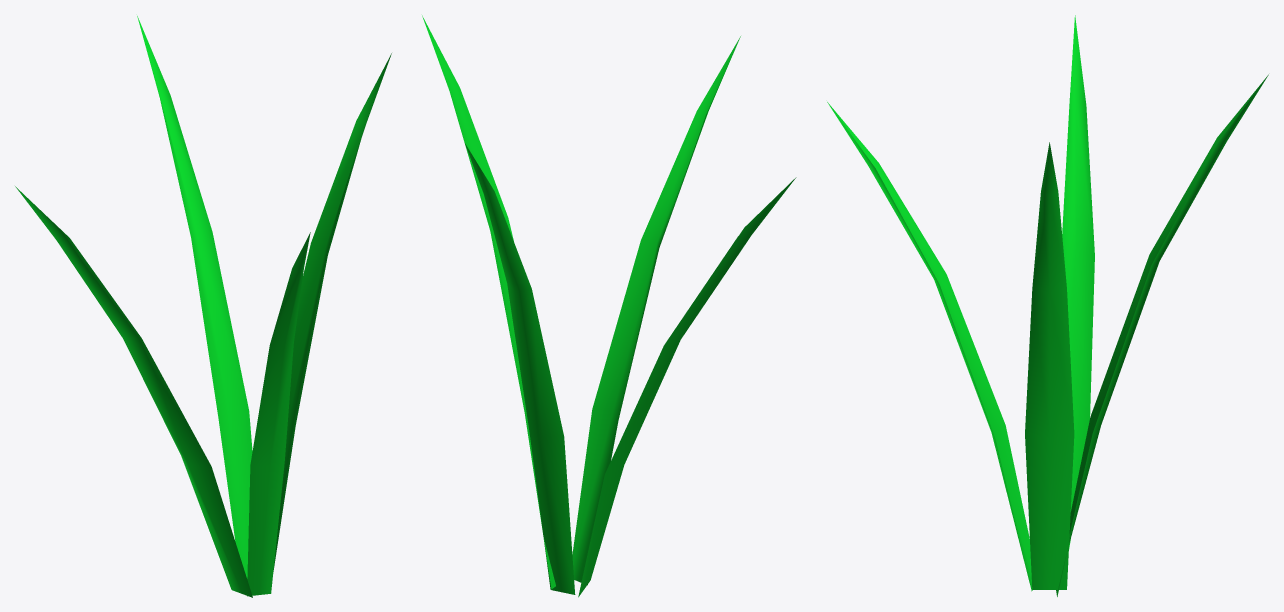
The picture shows the model from 3 angles, left to right: view 1: azimuth 30°, elevation 25°; view 2: azimuth 150°, elevation 25°; view 3: azimuth 270°, elevation 25°; orthographic projection. The views are drawn at different scales.
Parts seen in each view (by area): view 1: 草; view 2: 草; view 3: 草.
Boxes of the visible parts, bbox=[...] form: 草: bbox=[15, 16, 391, 597]; 草: bbox=[422, 15, 796, 597]; 草: bbox=[827, 15, 1268, 596].
Bounding box in the file's own units: 125 × 166 × 129.
